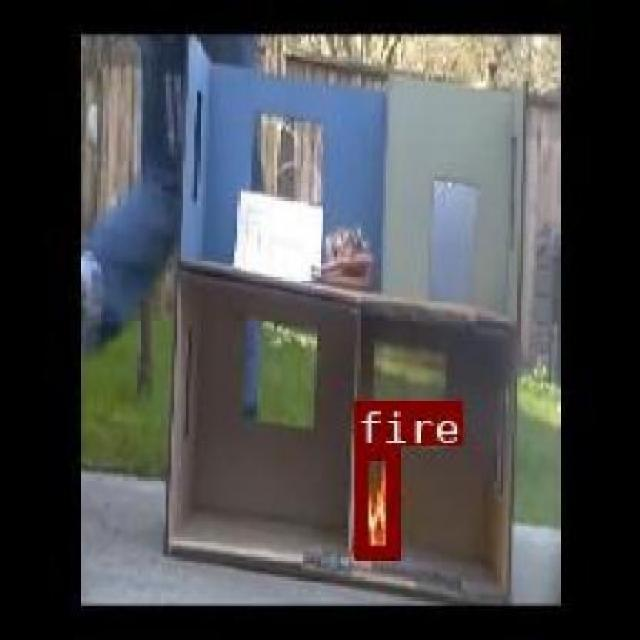Fire: (352, 444, 397, 556)
